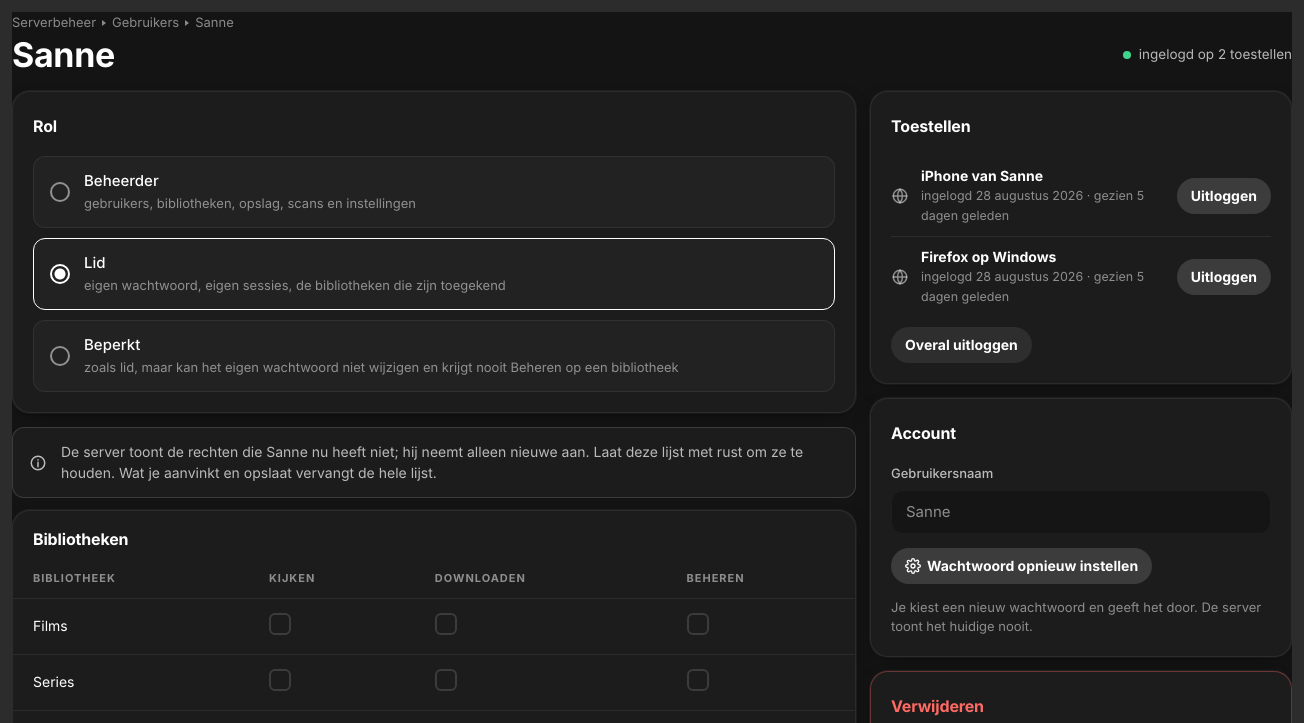
Test: wachtwoord opnieuw instellen › stuurt het wachtwoord alleen in de body, maakt het veld leeg en logt niets in een URL
Click the button "Wachtwoord opnieuw instellen" at (1022, 566), box x1=891 y1=548 x2=1152 y2=584
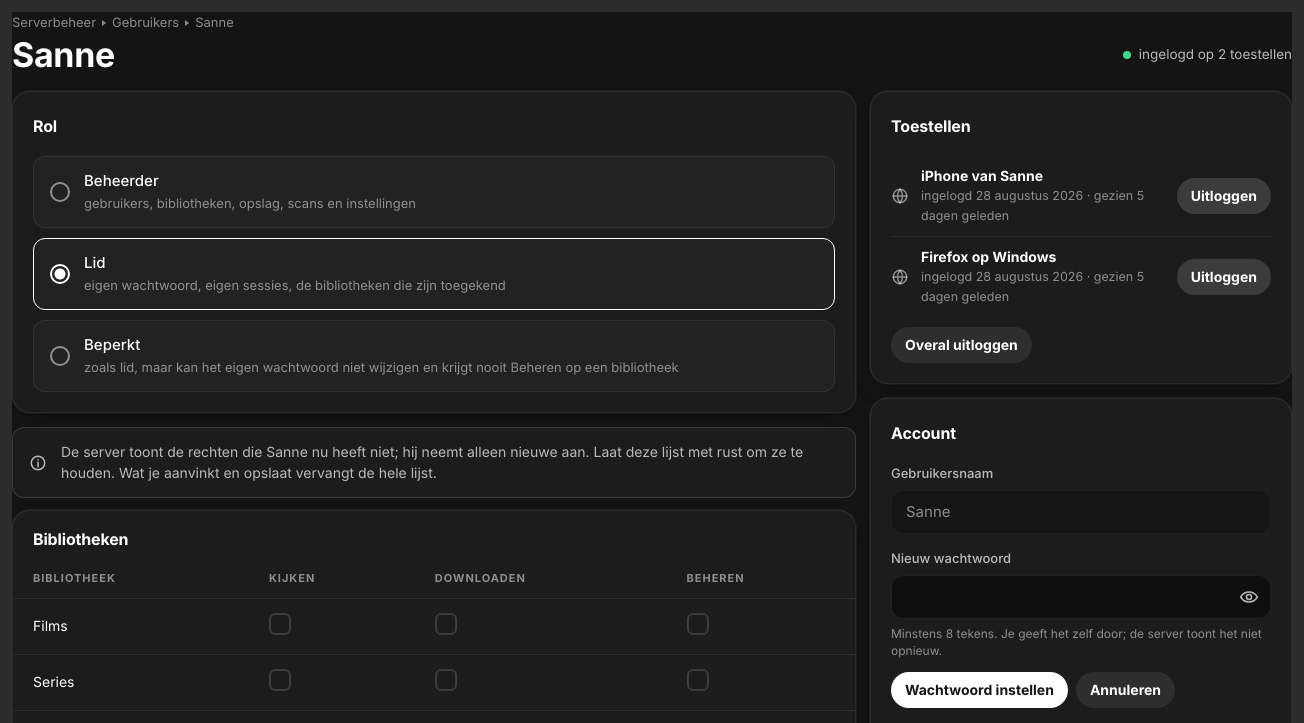
Type "geheim-wachtwoord" into the password field labelled "Nieuw wachtwoord" at (1081, 597), box x1=891 y1=575 x2=1271 y2=619
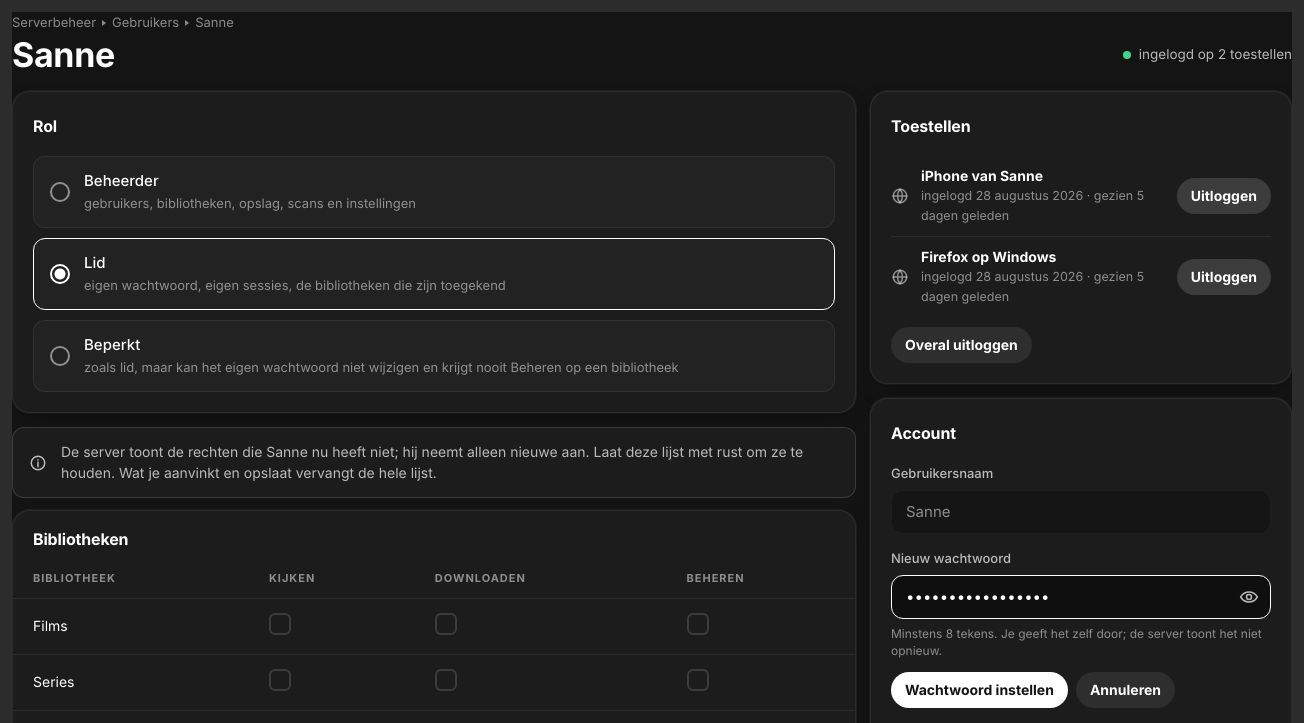
Click the button "Wachtwoord instellen" at (979, 690), box x1=891 y1=672 x2=1068 y2=708
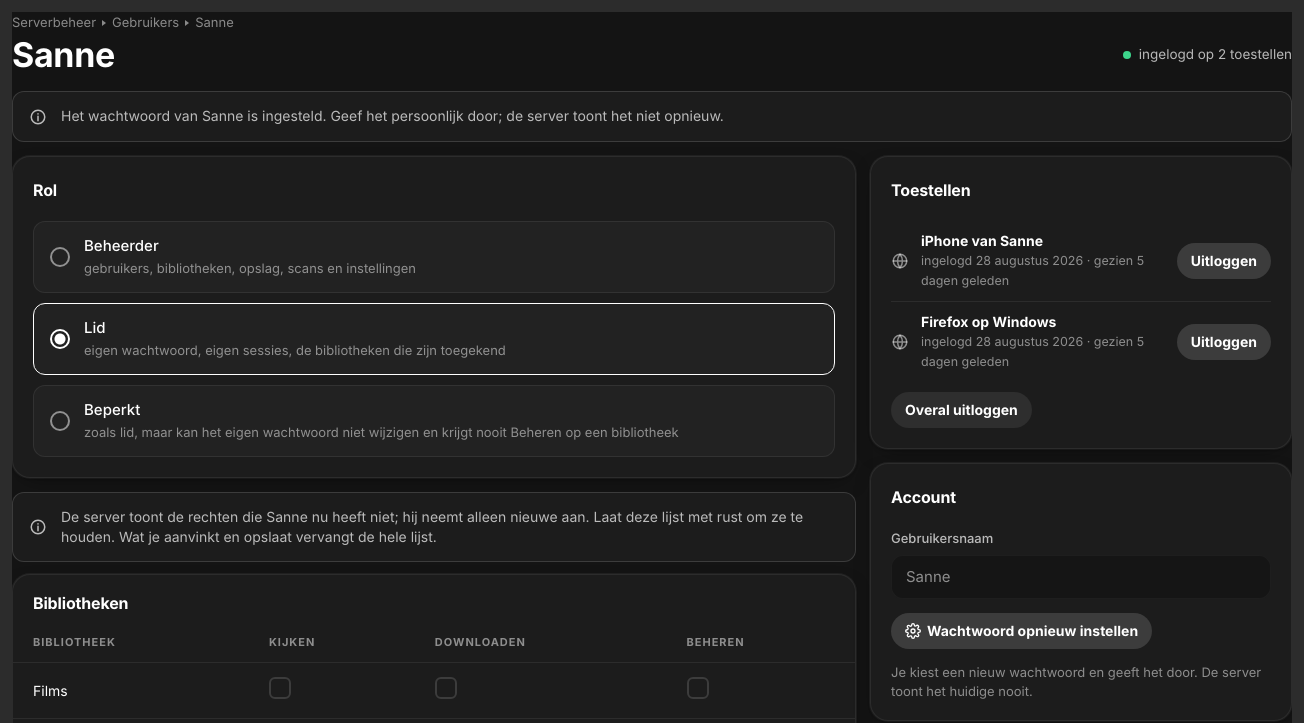
Result: the text "Het wachtwoord van Sanne is ingesteld" is shown at x1=61 y1=107 x2=724 y2=124
